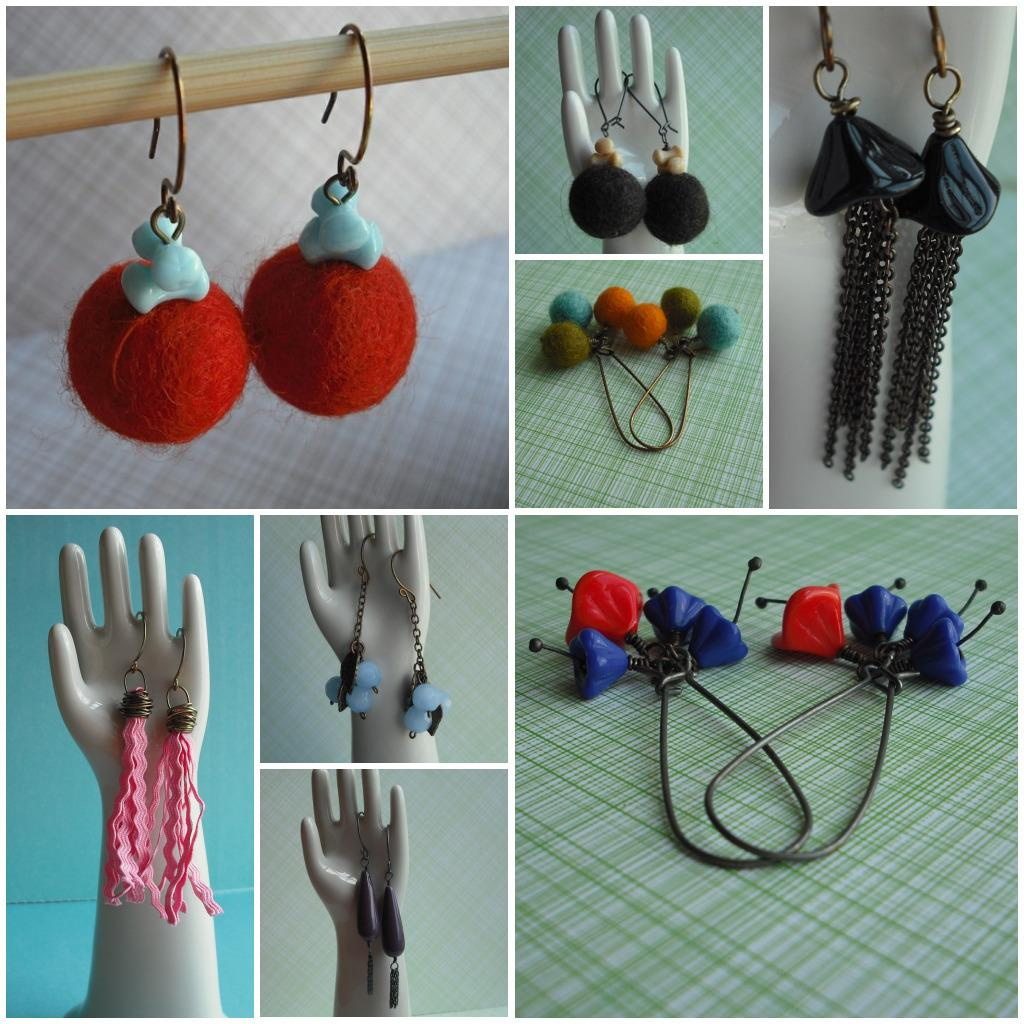earring: (523, 546, 811, 873), (699, 567, 1008, 863), (55, 41, 256, 454), (235, 22, 418, 416), (799, 0, 923, 484), (875, 0, 996, 489), (112, 617, 219, 928), (631, 276, 751, 454), (541, 283, 667, 450), (102, 610, 164, 916), (562, 63, 649, 233), (637, 59, 706, 251), (322, 523, 375, 720), (390, 548, 445, 733), (354, 807, 383, 999), (379, 813, 407, 1008)
